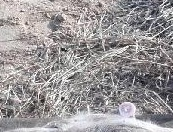text: (109, 94, 147, 123)
